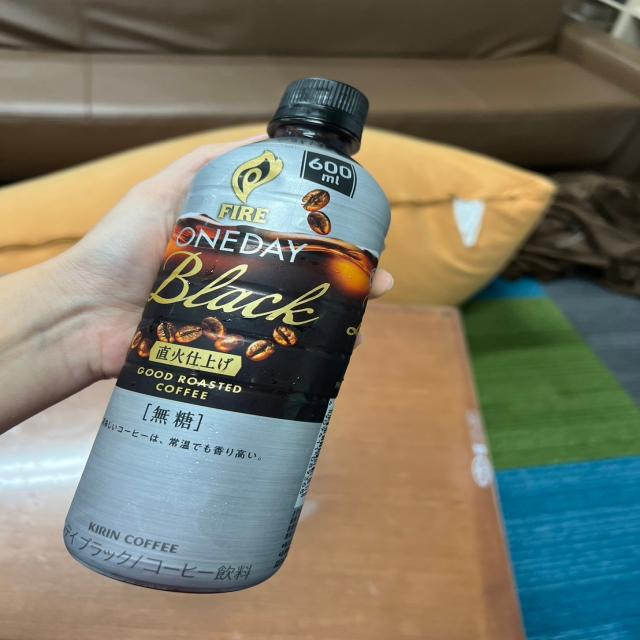coffee-black: (61, 77, 414, 584)
